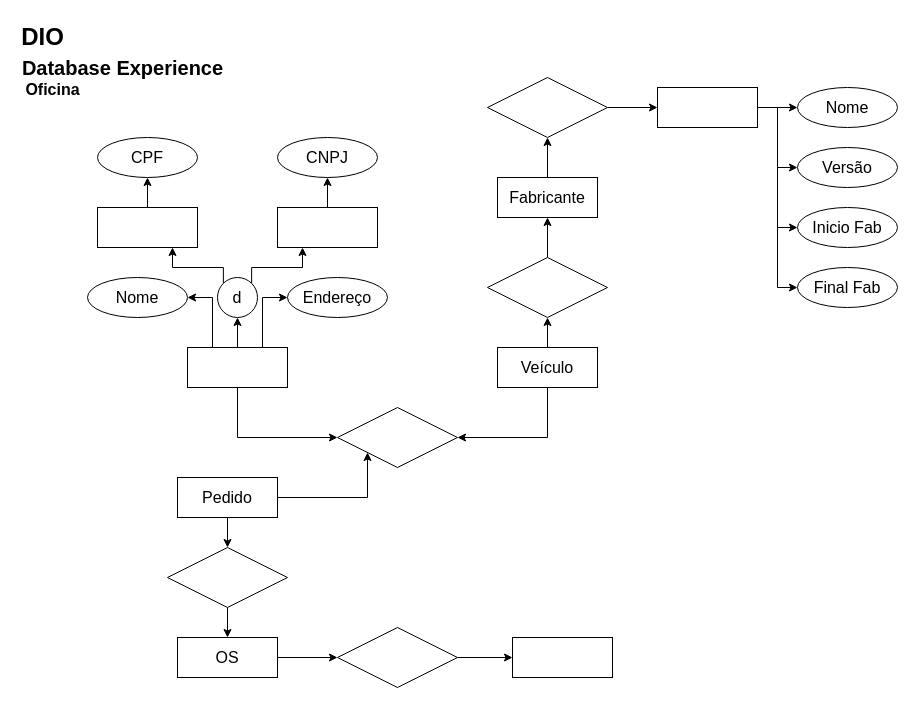
This 915x705 diagram has some shape labels left out. The shapes that lost their labels are listed below. From the top down, each one's centre as x and y in pixels, then its label:
[707,107]: Modelo
[147,227]: PF
[327,227]: PJ
[237,367]: Cliente
[562,657]: Técnico
